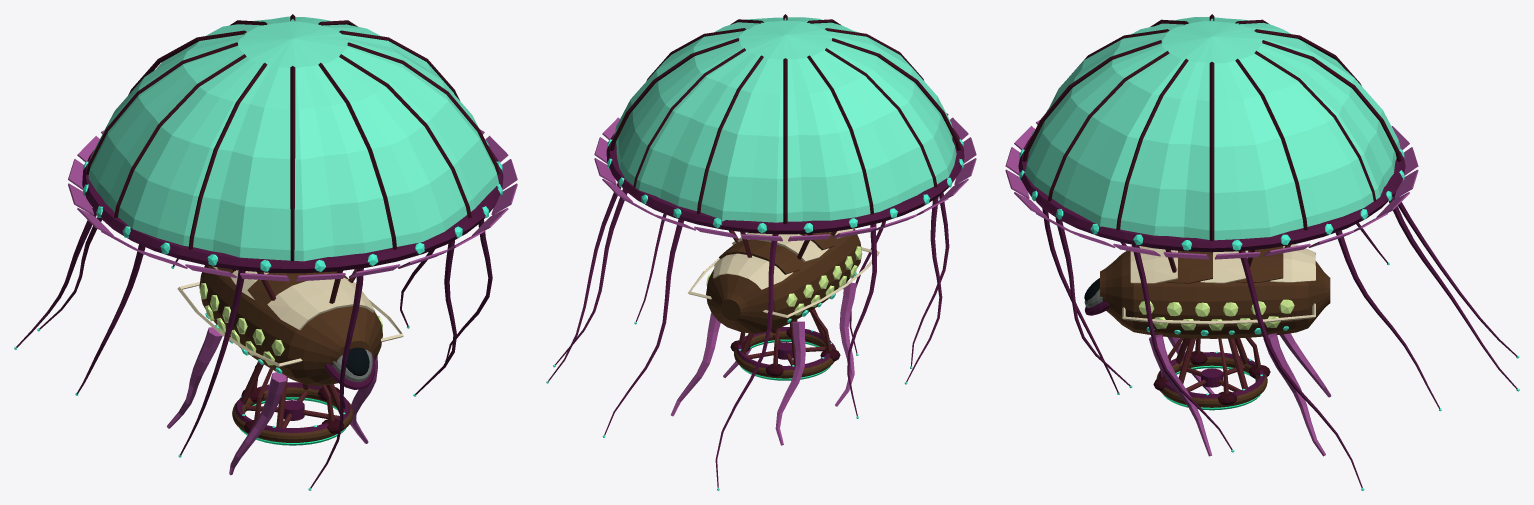
Rendered from launch.obj.
3 views of the same model, side by side, from view 1: azimuth 30°, elevation 25°; view 2: azimuth 150°, elevation 25°; view 3: azimuth 270°, elevation 25° (orthographic). The views are drawn at different scales.
Visible parts, largest first — view 1: launch; view 2: launch; view 3: launch.
Part boxes in pixels (x1,y1,x2,y2): launch: (14,14,517,490); launch: (546,14,976,490); launch: (1005,14,1519,490).
Size of the model in its own units: 73.11 by 74.87 by 90.
1 material, 1 textured.
